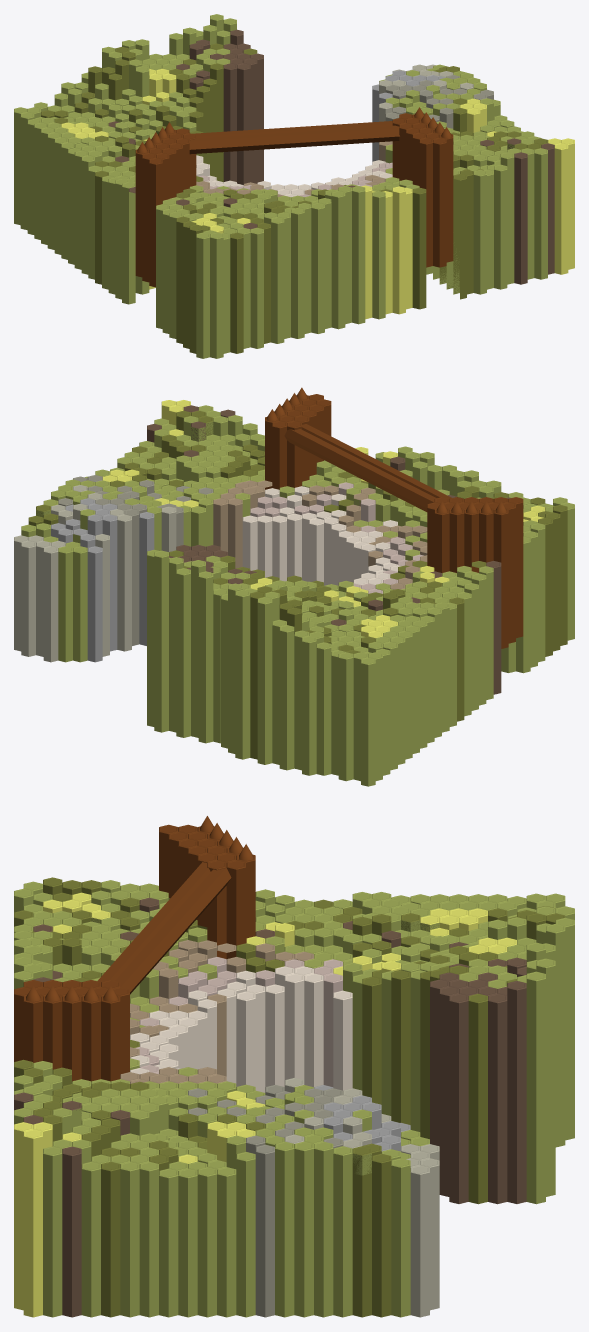
Rendered from testlevel.fbx.
3 renders of one model, top to bottom at view 1: azimuth 30°, elevation 25°; view 2: azimuth 150°, elevation 25°; view 3: azimuth 270°, elevation 25°, orthographic. The views are drawn at different scales.
Visible parts, largest first — view 1: polySurface3; view 2: polySurface3; view 3: polySurface3.
Part boxes in pixels (x1,y1,x2,y2): polySurface3: (14, 14, 574, 358); polySurface3: (14, 387, 574, 786); polySurface3: (14, 816, 574, 1317).
Size of the model in its own units: 22.99 by 9.83 by 20.62.
